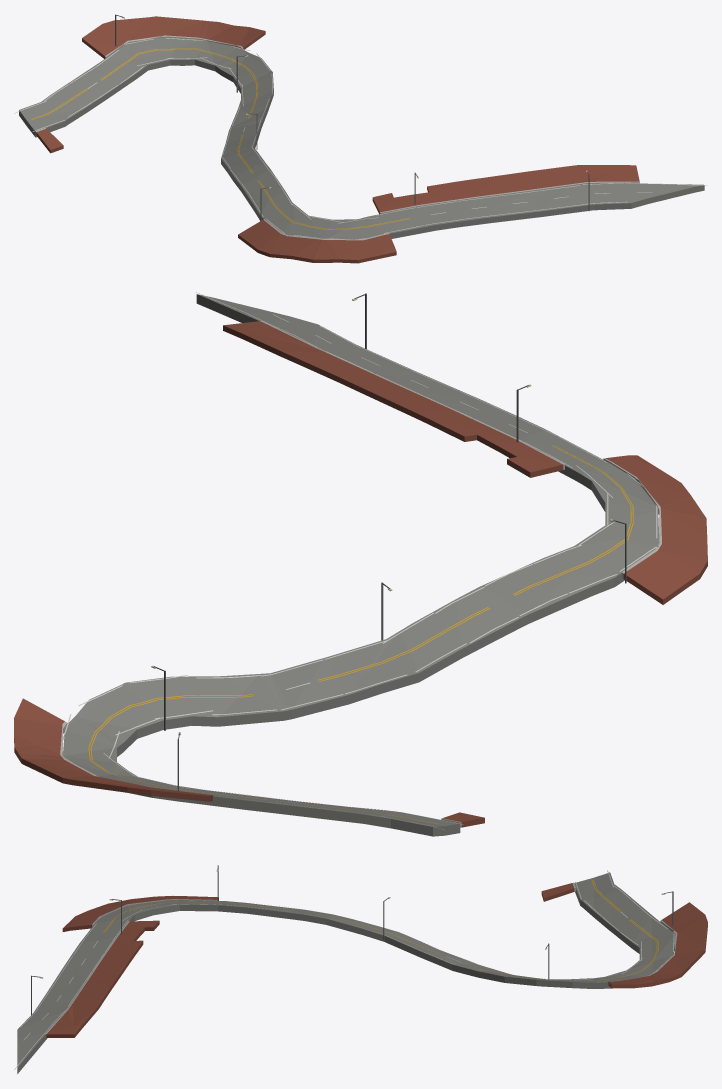
3 renders of one model, top to bottom at view 1: azimuth 30°, elevation 25°; view 2: azimuth 150°, elevation 25°; view 3: azimuth 270°, elevation 25°, orthographic. The views are drawn at different scales.
Size of the model in its own units: 92.09 by 16.52 by 120.
